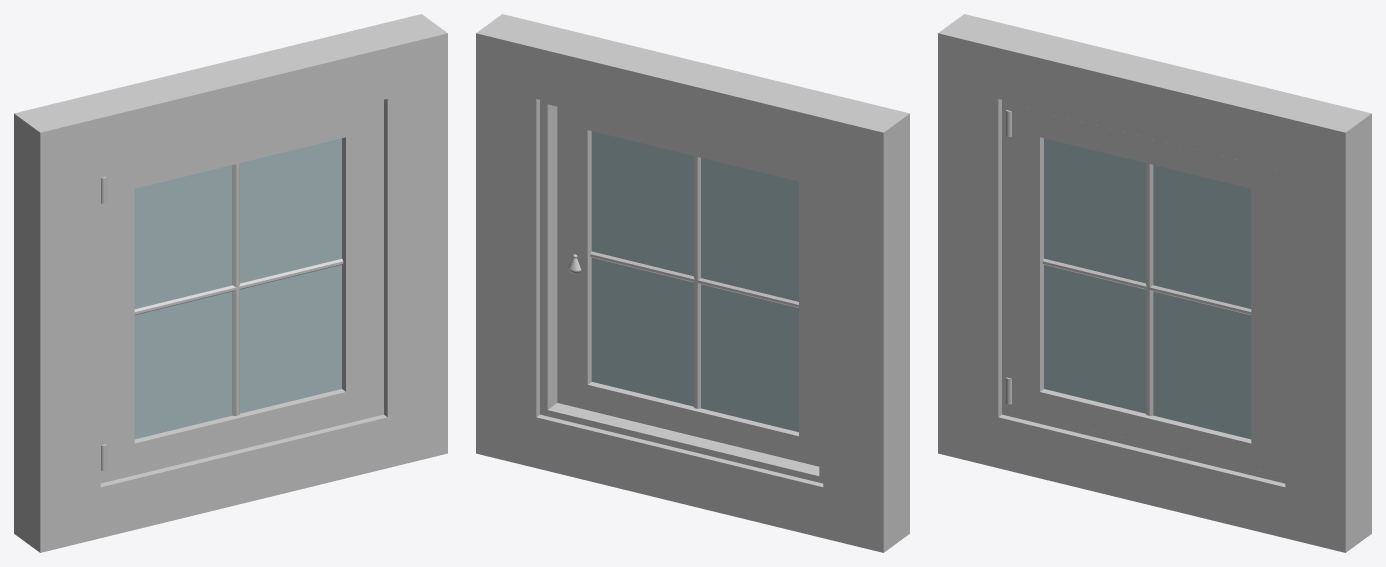
The model's file is Cool Borwo-Luulia.glb.
3 renders of one model, left to right at view 1: azimuth 30°, elevation 25°; view 2: azimuth 150°, elevation 25°; view 3: azimuth 330°, elevation 25°, orthographic.
Parts seen in each view (by area): view 1: Mesh_Mesh_head_geo.001_lambert2SG.001; view 2: Mesh_Mesh_head_geo.001_lambert2SG.001; view 3: Mesh_Mesh_head_geo.001_lambert2SG.001.
Boxes of the visible parts, x1,y1,x2,y2 form: Mesh_Mesh_head_geo.001_lambert2SG.001: [14, 14, 447, 552]; Mesh_Mesh_head_geo.001_lambert2SG.001: [476, 14, 909, 552]; Mesh_Mesh_head_geo.001_lambert2SG.001: [938, 14, 1371, 552].
Bounding box in the file's own units: 0.067 × 0.066 × 0.0075.
